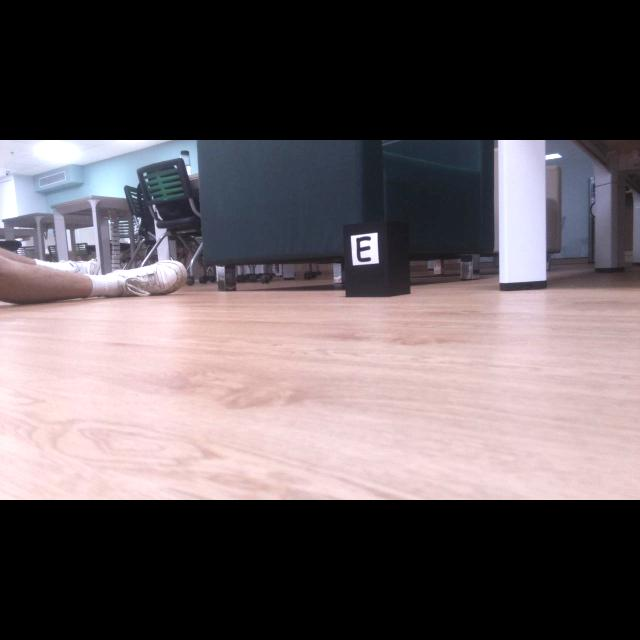E: (356, 236, 371, 262)
